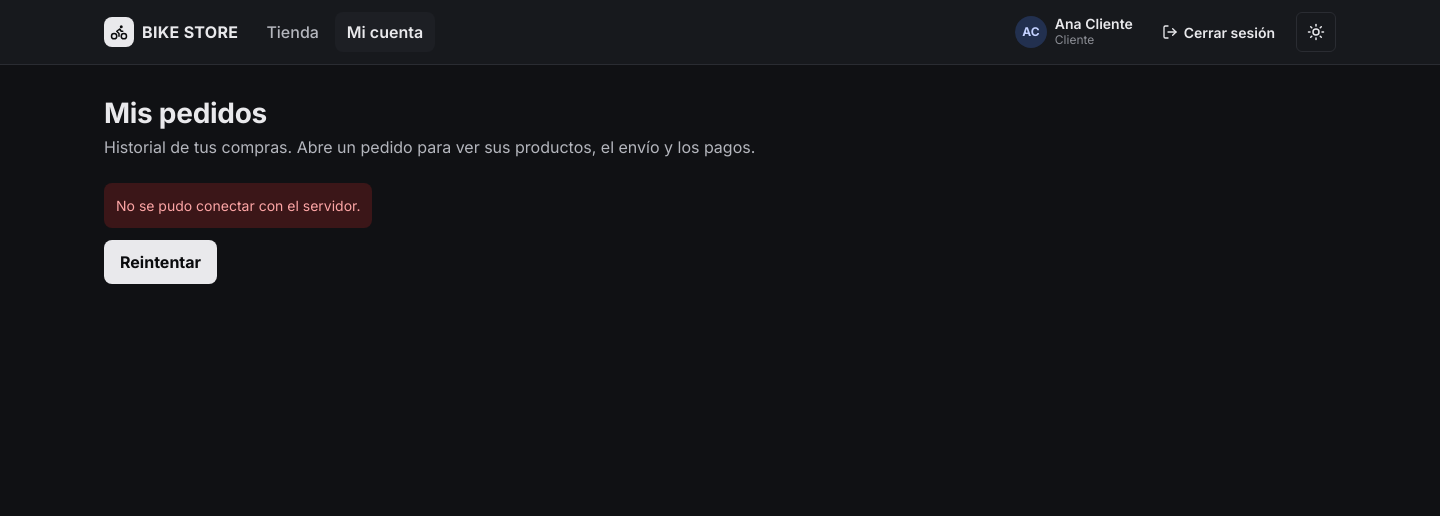
Scenario: Listado · /cuenta/pedidos › si la carga falla, permite reintentar
Expected: the message reads "No se pudo conectar con el servidor.", [116,197,360,214]
Click the button "Reintentar".
click(161, 262)  # box [104,240,217,284]
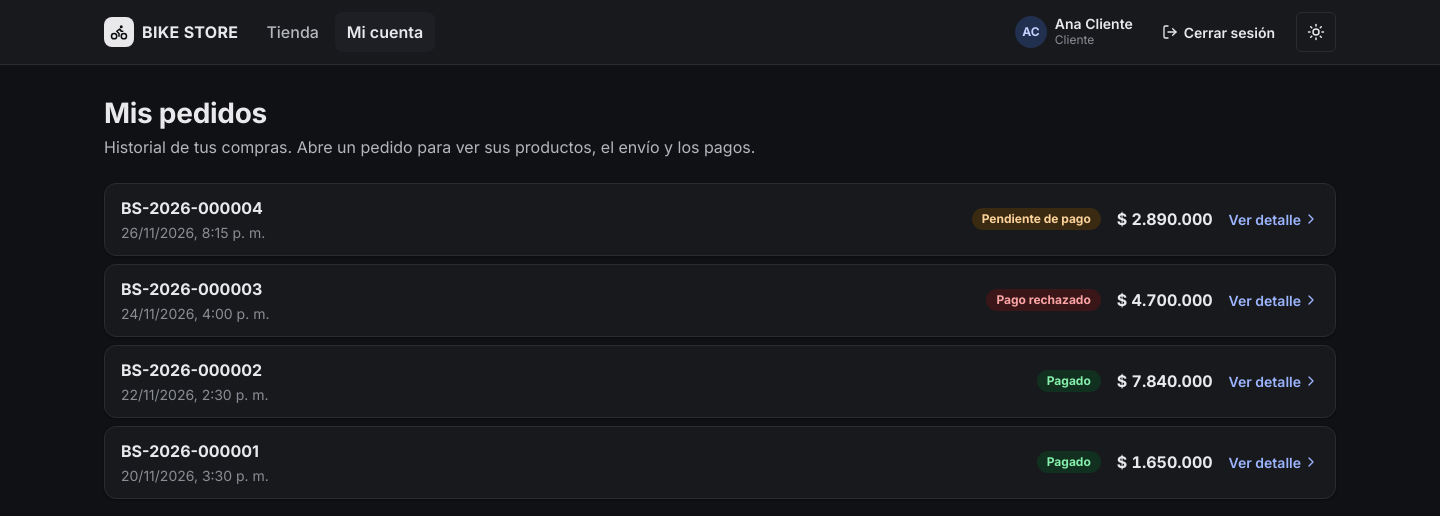
Result: the list named "Pedidos" is shown at [104,183,1336,499]
